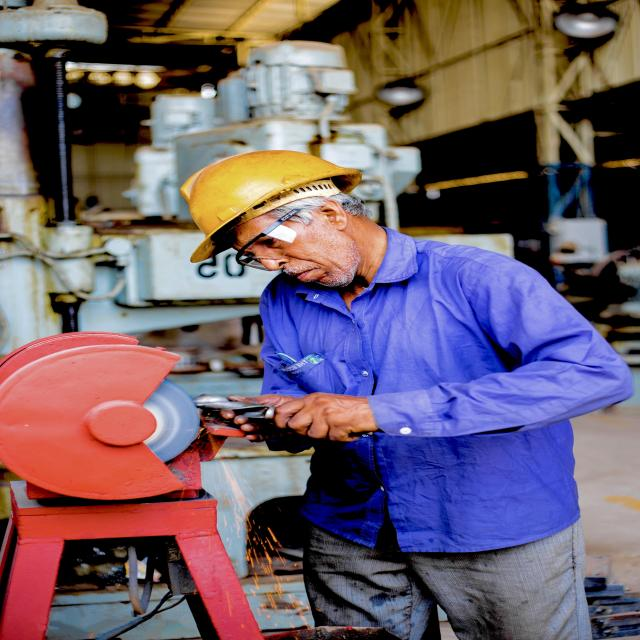Safety-Helmet: (174, 148, 365, 245)
